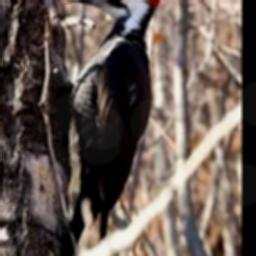Woodpecker: (63, 0, 167, 256)
